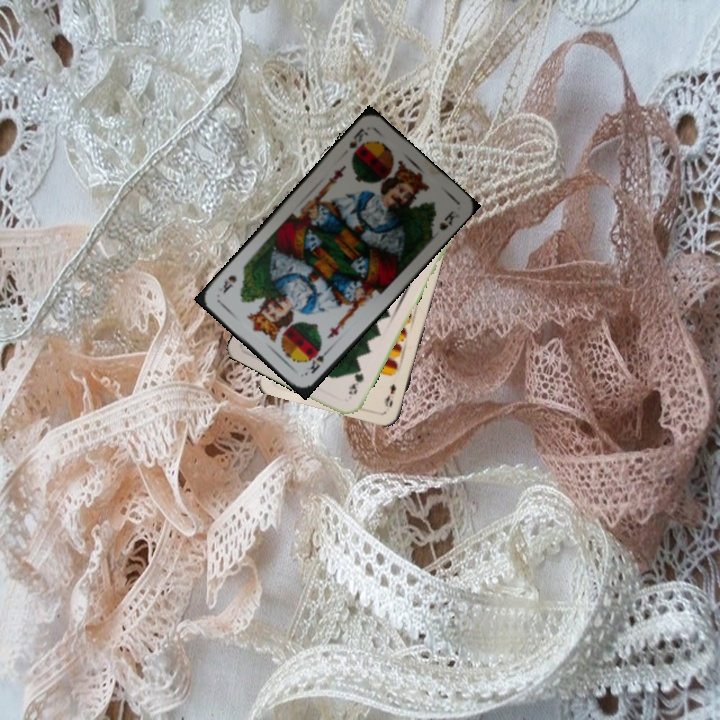E9: (381, 380, 399, 410)
G9: (344, 364, 366, 398)
SK: (303, 344, 333, 377), (345, 124, 372, 158)
